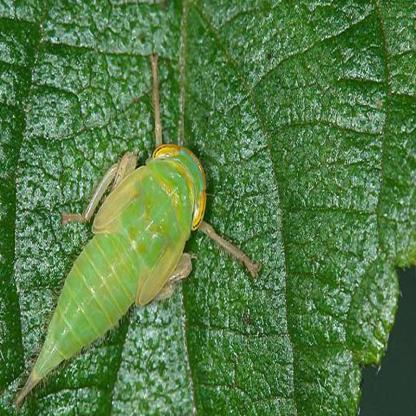green-leafhopper: (15, 138, 210, 406)
